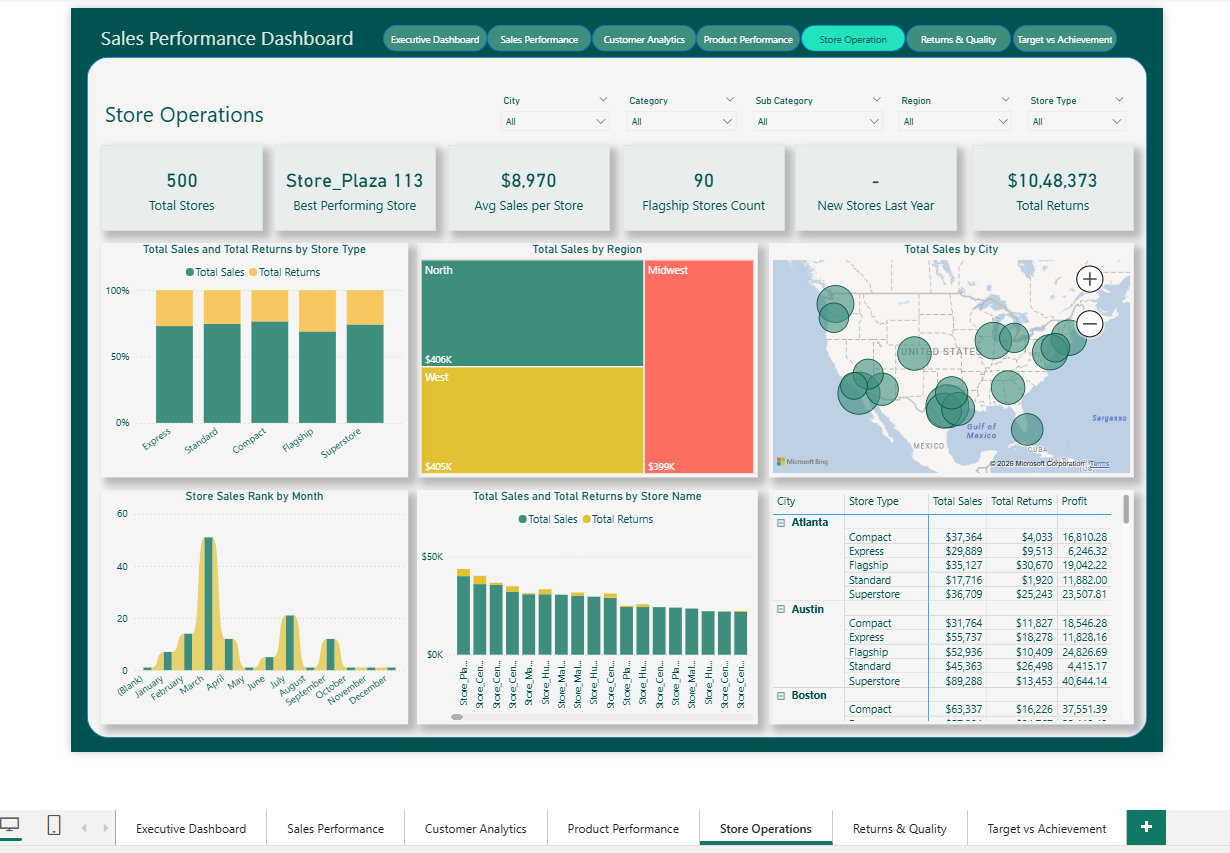

The dashboard page shown, as its layout file describes it:
{"tool":"powerbi","page":{"name":"Store Operations","canvas":[1365,930],"ordinal":4},"visuals":[{"type":"shape","box":[390.6,21.6,130.6,33.2],"z":0,"group":"g3"},{"type":"shape","box":[19.5,61.8,1325.1,851],"z":0},{"type":"slicer","fields":{"Values":["Customer.City"]},"box":[528,104.2,155.7,57.9],"z":0,"group":"g1"},{"type":"card","title":"Total Sales","fields":{"Values":["All Measures.Total Stores"]},"box":[37.8,171.8,201.8,106.5],"z":0,"group":"g2"},{"type":"shape","box":[521.2,21.6,130.6,33.2],"z":1000,"group":"g3"},{"type":"group","id":"g1","title":"Group 1","box":[528,104.2,800.6,57.3],"z":1000},{"type":"slicer","fields":{"Values":["Product.Category"]},"box":[685.9,104.2,156.8,57.9],"z":1000,"group":"g1"},{"type":"card","title":"Total Sales","fields":{"Values":["All Measures.Best Performing Store"]},"box":[253.9,171.8,201.8,106.5],"z":1000,"group":"g2"},{"type":"shape","box":[651.7,21.6,130.6,33.2],"z":2000,"group":"g3"},{"type":"slicer","fields":{"Values":["Store.Region"]},"box":[1025.3,104.2,161.3,57.9],"z":2000,"group":"g1"},{"type":"textbox","box":[37.5,109.3,257.1,52.5],"z":2000},{"type":"card","title":"Total Sales","fields":{"Values":["All Measures.Avg Sales per Store"]},"box":[471.2,171.8,201.8,106.5],"z":2000,"group":"g2"},{"type":"shape","box":[782.3,21.6,130.6,33.2],"z":3000,"group":"g3"},{"type":"slicer","fields":{"Values":["Store.StoreType"]},"box":[1186.6,104.2,142.2,57.9],"z":3000,"group":"g1"},{"type":"group","id":"g2","title":"Group 2","box":[37.8,171.8,1290.8,106.5],"z":3000},{"type":"card","title":"Total Sales","fields":{"Values":["All Measures.Flagship Stores Count"]},"box":[689.8,171.8,201.8,106.5],"z":3000,"group":"g2"},{"type":"shape","box":[37.8,19.5,333.3,36.7],"z":4000},{"type":"shape","box":[912.9,21.6,130.6,33.2],"z":4000,"group":"g3"},{"type":"slicer","fields":{"Values":["Product.SubCategory"]},"box":[842.7,104.2,182.6,57.9],"z":4000,"group":"g1"},{"type":"card","title":"Total Sales","fields":{"Values":["All Measures.New Stores Last Year"]},"box":[905.9,171.8,201.8,106.5],"z":4000,"group":"g2"},{"type":"shape","box":[1044.4,21.6,131.2,33.8],"z":5000,"group":"g3"},{"type":"card","title":"Total Sales","fields":{"Values":["All Measures.Total Returns"]},"box":[1126.8,171.8,201.8,106.5],"z":5000,"group":"g2"},{"type":"ribbonChart","fields":{"Y":["All Measures.Store Sales Rank"],"Category":["Date.Date.Variation.Date Hierarchy.Month"]},"box":[37.8,602.4,383.7,293.2],"z":5000},{"type":"shape","box":[1178.1,21.6,130,33.8],"z":6000,"group":"g3"},{"type":"treemap","fields":{"Values":["All Measures.Total Sales"],"Group":["Store.Region"]},"box":[432.9,294.3,426.1,293.2],"z":6000},{"type":"map","fields":{"Size":["All Measures.Total Sales"],"Category":["Store.City"]},"box":[872.7,294.3,455.8,293.2],"z":7000},{"type":"pivotTable","fields":{"Rows":["Store.City","Store.StoreType"],"Values":["All Measures.Total Sales","All Measures.Total Returns","All Measures.Profit"]},"box":[872.7,602.4,455.8,293.2],"z":8000},{"type":"columnChart","fields":{"Y":["All Measures.Total Sales","All Measures.Total Returns"],"Category":["Store.StoreName"]},"box":[432.9,602.4,426.1,293.2],"z":9000},{"type":"group","id":"g3","title":"Group 3","box":[390.6,21.6,917.5,33.8],"z":9008},{"type":"hundredPercentStackedColumnChart","fields":{"Y":["All Measures.Total Sales","All Measures.Total Returns"],"Category":["Store.StoreType"]},"box":[37.8,294.3,383.7,293.2],"z":9009}]}

Visuals, with their boxes on the page's 1365x930 design canvas (x1, y1, x2, y2). These are canvas units, not pixel positions in the 1230x853 screenshot, which may show the page scaled, cropped or inside an application window:
shape: (left=391, top=22, right=521, bottom=55)
shape: (left=20, top=62, right=1345, bottom=913)
slicer - Customer.City: (left=528, top=104, right=684, bottom=162)
"Total Sales" card: (left=38, top=172, right=240, bottom=278)
shape: (left=521, top=22, right=652, bottom=55)
"Group 1" group: (left=528, top=104, right=1329, bottom=162)
slicer - Product.Category: (left=686, top=104, right=843, bottom=162)
"Total Sales" card: (left=254, top=172, right=456, bottom=278)
shape: (left=652, top=22, right=782, bottom=55)
slicer - Store.Region: (left=1025, top=104, right=1187, bottom=162)
textbox: (left=38, top=109, right=295, bottom=162)
"Total Sales" card: (left=471, top=172, right=673, bottom=278)
shape: (left=782, top=22, right=913, bottom=55)
slicer - Store.StoreType: (left=1187, top=104, right=1329, bottom=162)
"Group 2" group: (left=38, top=172, right=1329, bottom=278)
"Total Sales" card: (left=690, top=172, right=892, bottom=278)
shape: (left=38, top=20, right=371, bottom=56)
shape: (left=913, top=22, right=1044, bottom=55)
slicer - Product.SubCategory: (left=843, top=104, right=1025, bottom=162)
"Total Sales" card: (left=906, top=172, right=1108, bottom=278)
shape: (left=1044, top=22, right=1176, bottom=55)
"Total Sales" card: (left=1127, top=172, right=1329, bottom=278)
ribbonChart - All Measures.Store Sales Rank x Date.Date.Variation.Date Hierarchy.Month: (left=38, top=602, right=422, bottom=896)
shape: (left=1178, top=22, right=1308, bottom=55)
treemap - All Measures.Total Sales x Store.Region: (left=433, top=294, right=859, bottom=588)
map - All Measures.Total Sales x Store.City: (left=873, top=294, right=1328, bottom=588)
pivotTable - Store.City x Store.StoreType: (left=873, top=602, right=1328, bottom=896)
columnChart - All Measures.Total Sales x All Measures.Total Returns: (left=433, top=602, right=859, bottom=896)
"Group 3" group: (left=391, top=22, right=1308, bottom=55)
hundredPercentStackedColumnChart - All Measures.Total Sales x All Measures.Total Returns: (left=38, top=294, right=422, bottom=588)
